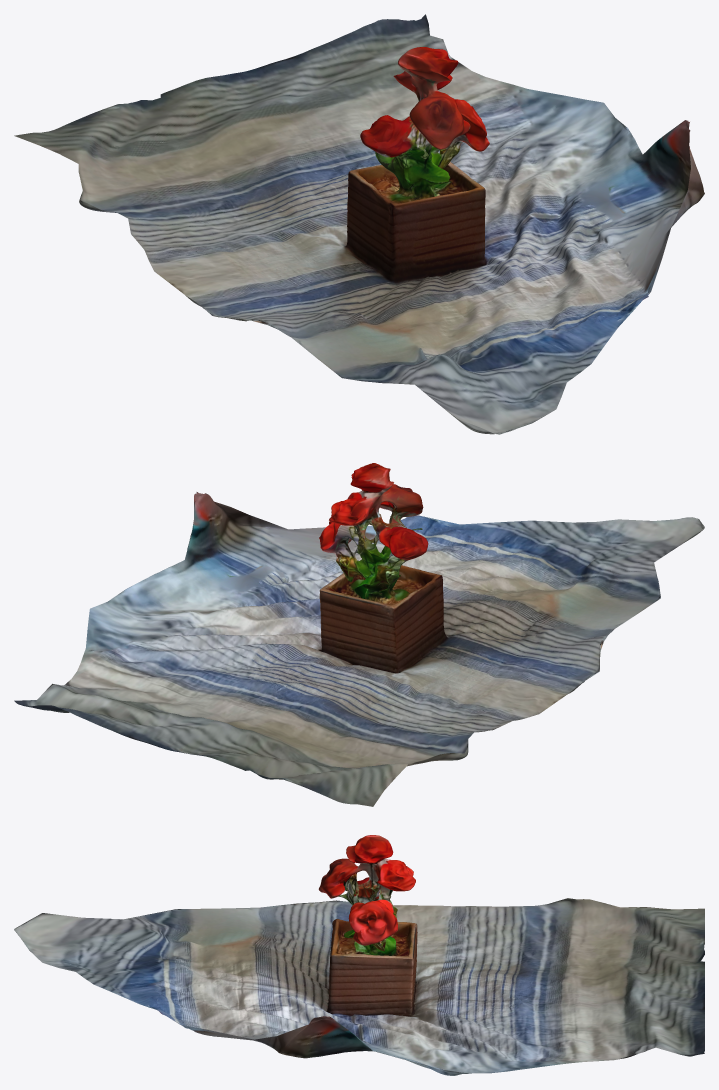
The picture shows the model from 3 angles, top to bottom: view 1: azimuth 30°, elevation 25°; view 2: azimuth 150°, elevation 25°; view 3: azimuth 270°, elevation 25°; orthographic projection. The views are drawn at different scales.
Parts seen in each view (by area): view 1: 3DModel; view 2: 3DModel; view 3: 3DModel.
Part boxes in pixels (x1,y1,x2,y2): 3DModel: (14, 14, 704, 434); 3DModel: (14, 463, 704, 806); 3DModel: (14, 835, 704, 1075).
Bounding box in the file's own units: 1.6 × 0.6466 × 2.44.
1 material, 1 textured.
